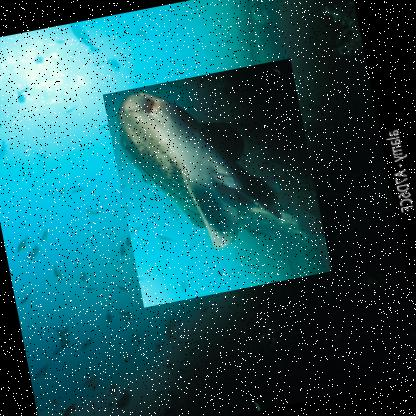zebra_shark: (101, 58, 332, 308)
